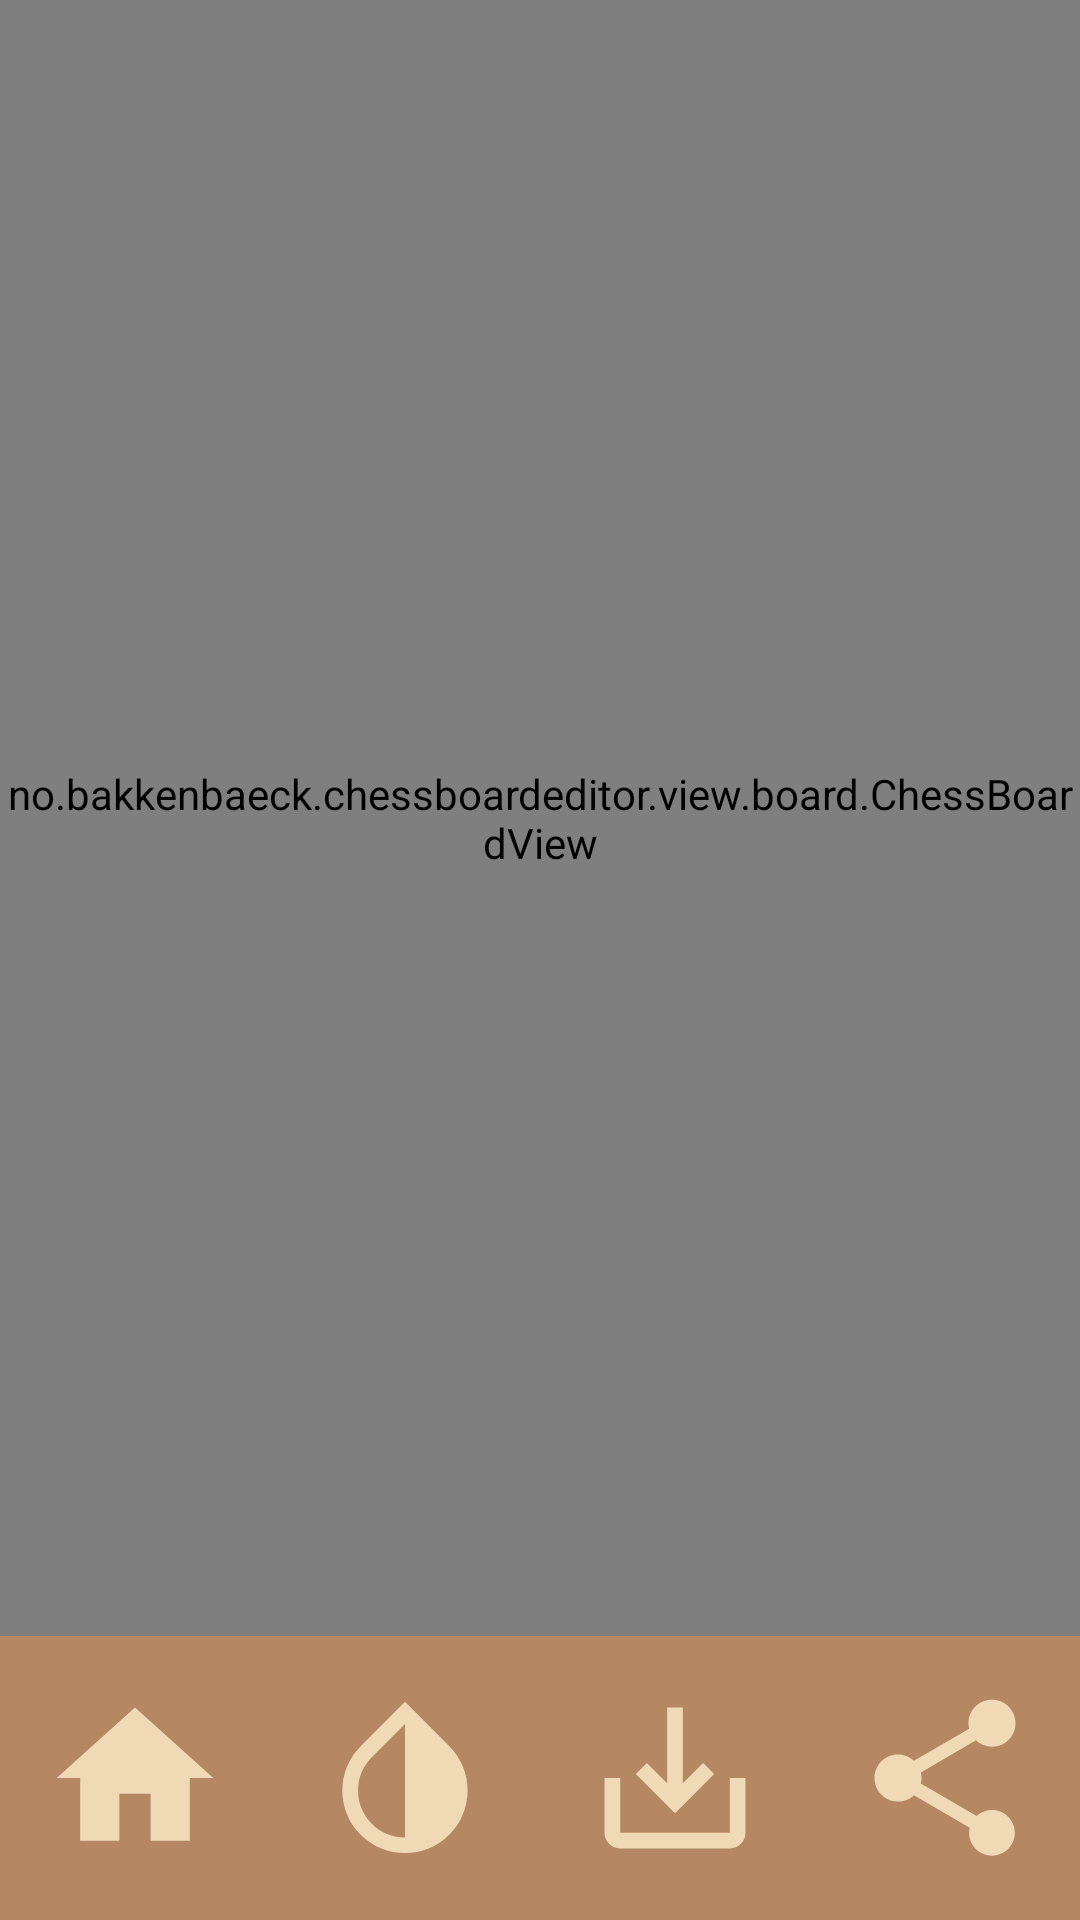

Named icons in this screenshot (1080px×1920px) and their bounding boxes, (x1, y1, x2, y2):
go to home activity: (57, 1708, 213, 1841)
